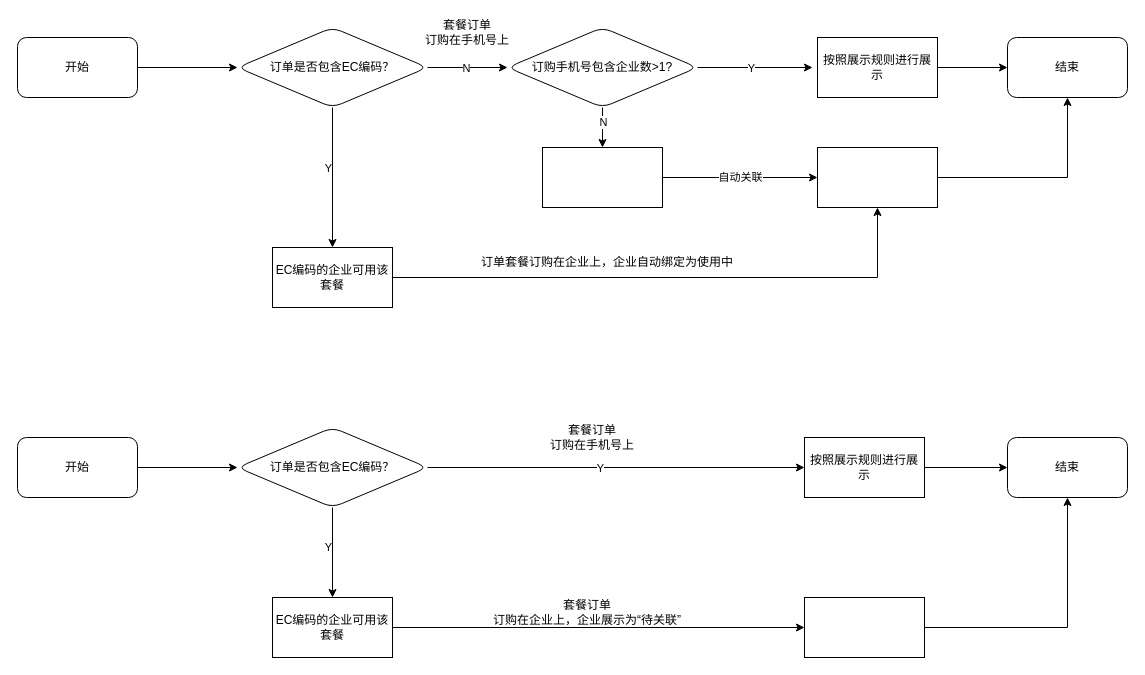
The diagram is 1145 pixels wide and 675 high, and some of its shapes have lost their labels. Here are the shapes that lost their labels. From the top down, the centre of each, then its label:
(602,177): 企业唯一
(877,177): 套餐为“使用中”状态
(864,627): 套餐为“待关联”，后续用户自行绑定套餐
